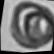correct: (5, 0, 54, 53)
